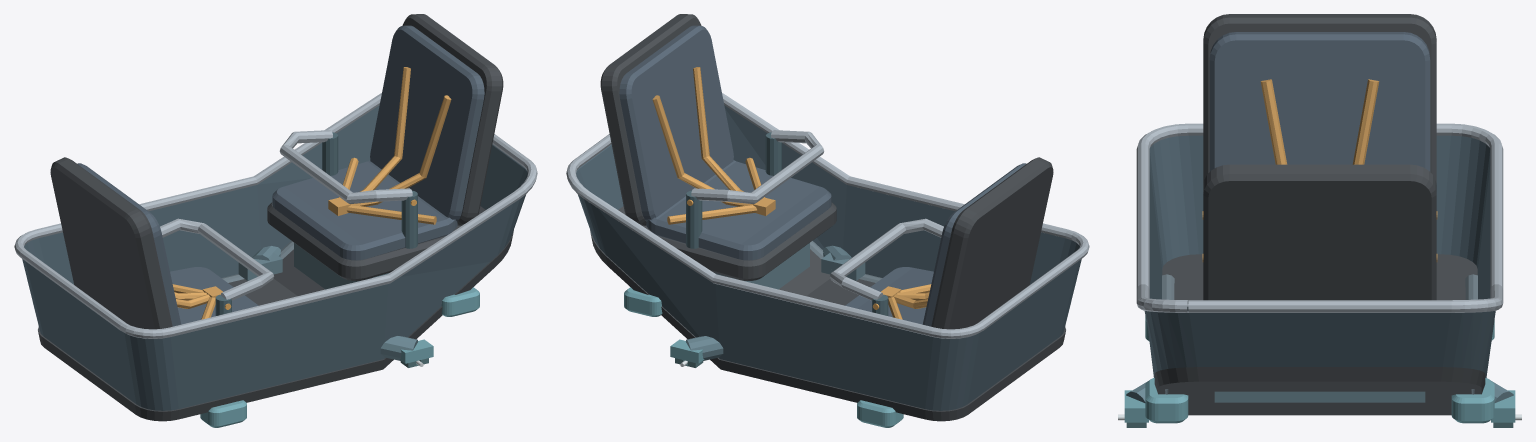
The picture shows the model from 3 angles, left to right: view 1: azimuth 30°, elevation 25°; view 2: azimuth 150°, elevation 25°; view 3: azimuth 270°, elevation 25°; orthographic projection. The views are drawn at different scales.
Parts seen in each view (by area): view 1: S11_Cabin, S11_Cabin_Mount_M; view 2: S11_Cabin, S11_Cabin_Mount_M; view 3: S11_Cabin, S11_Cabin_Mount_M.
Boxes of the visible parts, left/top/right/bottom form: S11_Cabin: left=14, top=14, right=537, bottom=427; S11_Cabin_Mount_M: left=238, top=246, right=433, bottom=367; S11_Cabin: left=566, top=14, right=1089, bottom=427; S11_Cabin_Mount_M: left=670, top=245, right=865, bottom=367; S11_Cabin: left=1136, top=14, right=1503, bottom=423; S11_Cabin_Mount_M: left=1118, top=381, right=1521, bottom=427.
Bounding box in the file's own units: 0.88 × 0.545 × 0.564.
